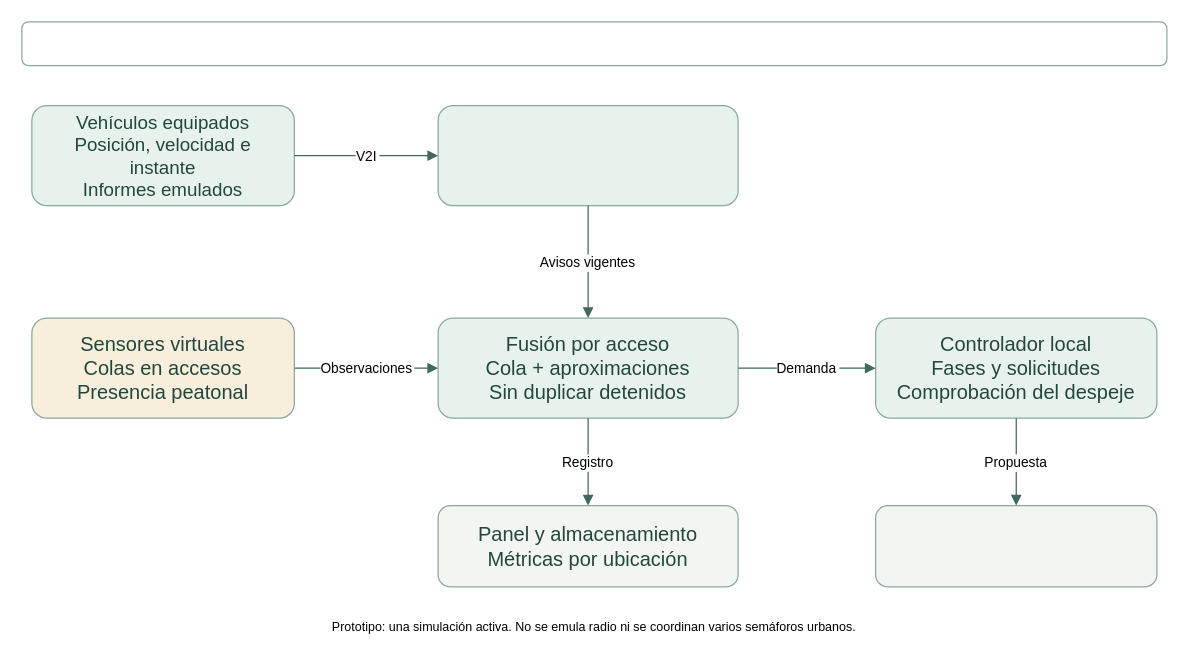
Image size: 1189x656. Some labels were removed from this diagram. The shapes that lost their labels are listed below. From the top down, each one's centre as x and y in pixels, then its label:
At (x=594, y=43): "Adquisición híbrida: del coche y la acera al semáforo".
At (x=587, y=155): "Receptor / RSU lógica Retardo, pérdidas y caducidad Estimación de llegada".
At (x=1015, y=545): "Evolución de campo Una unidad por cruce Supervisión conjunta".
